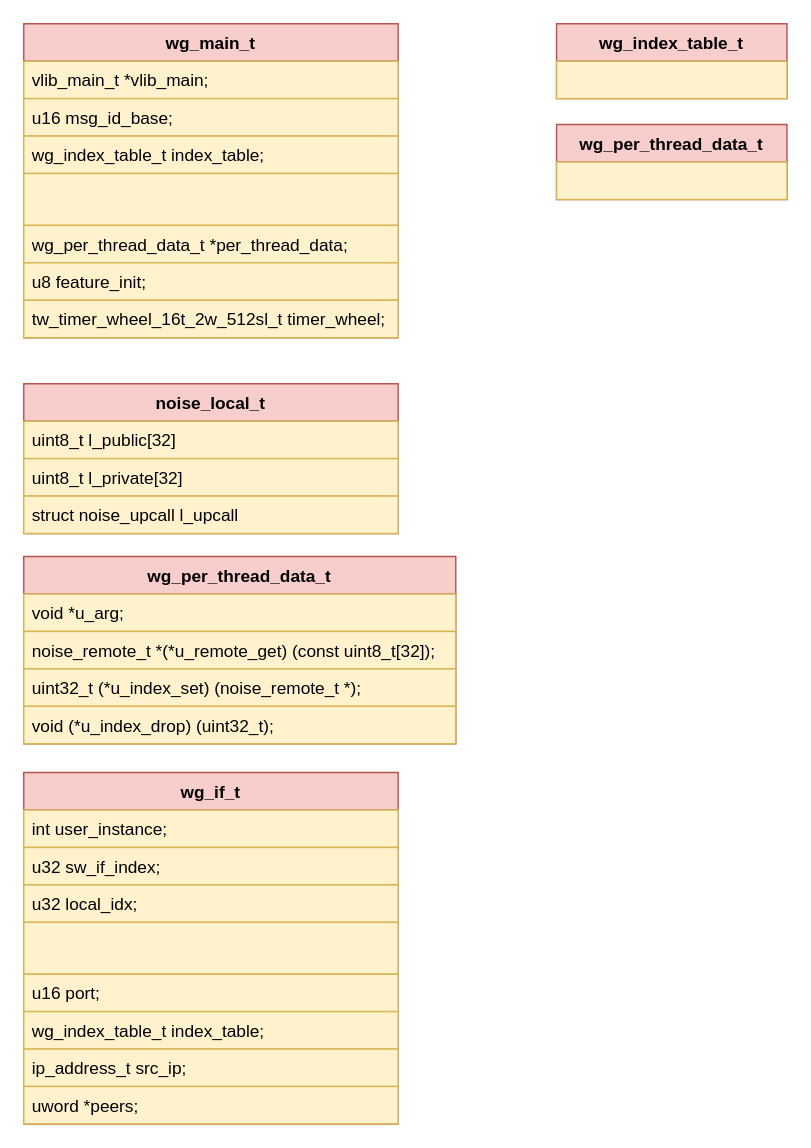
Image size: 811x1148. Some labels were removed from this diagram. The centre of each missing label's shape, as x and y in pixels:
cookie_checker_t cookie_checker;: (210,947)
u32 in_fq_index; u32 out_fq_index;: (210,198)
u8 data[2048]: (671,180)
uword *hash;: (671,79)
